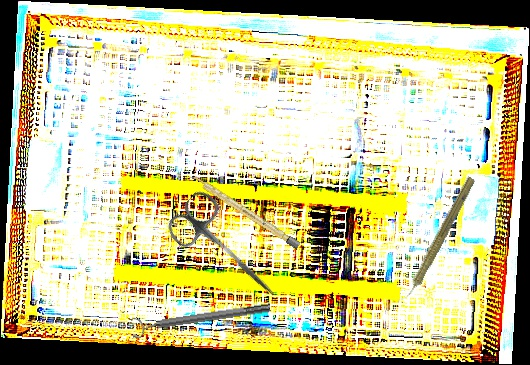Fixation Ring: (130, 297, 272, 340)
Handpiece: (394, 173, 479, 310)
Iris Scissors: (162, 186, 295, 315)
Scalpel Handle: (188, 172, 301, 250)
